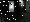person: (21, 2, 30, 16), (10, 2, 15, 13)
